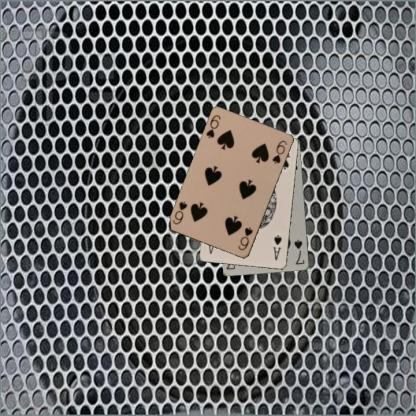6s: (203, 112, 222, 140), (236, 225, 254, 252)
7s: (291, 237, 306, 266)
As: (271, 233, 283, 262)
